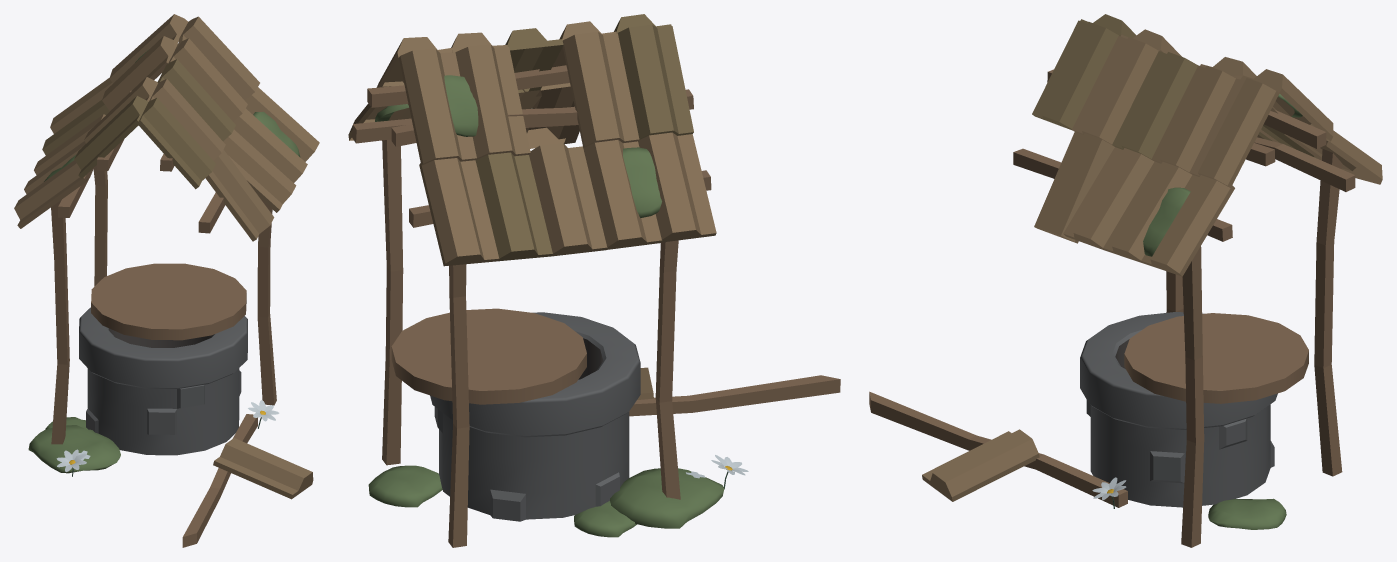
Rendered from P_well_01_LD.fbx.
3 renders of one model, left to right at view 1: azimuth 30°, elevation 25°; view 2: azimuth 150°, elevation 25°; view 3: azimuth 270°, elevation 25°, orthographic. The views are drawn at different scales.
Parts seen in each view (by area): view 1: P_Well_01; view 2: P_Well_01; view 3: P_Well_01.
Part boxes in pixels (x1,y1,x2,y2): P_Well_01: (14,14,319,547); P_Well_01: (348,14,840,547); P_Well_01: (869,14,1382,547).
Bounding box in the file's own units: 240 × 289 × 307.
